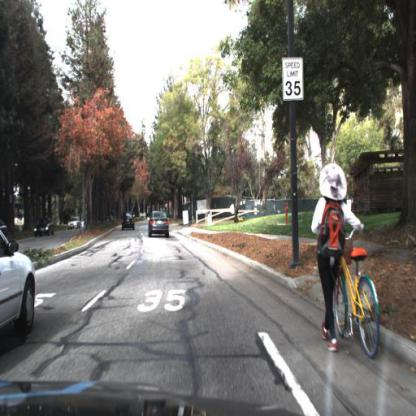biker: (310, 162, 383, 362)
car: (1, 224, 37, 339), (149, 209, 171, 239), (35, 218, 58, 237), (122, 212, 136, 235), (66, 214, 81, 232), (68, 217, 82, 231)
